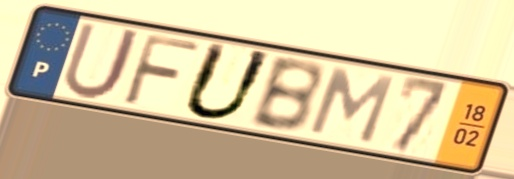7: (395, 73, 452, 157)
B: (245, 56, 325, 136)
F: (119, 31, 205, 110)
M: (304, 65, 398, 147)
U: (178, 39, 277, 123), (58, 19, 145, 102)
